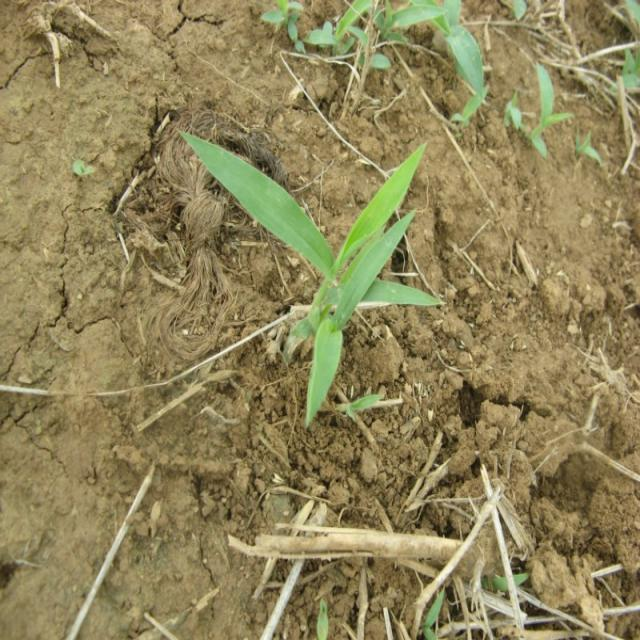bg: (177, 127, 441, 426)
